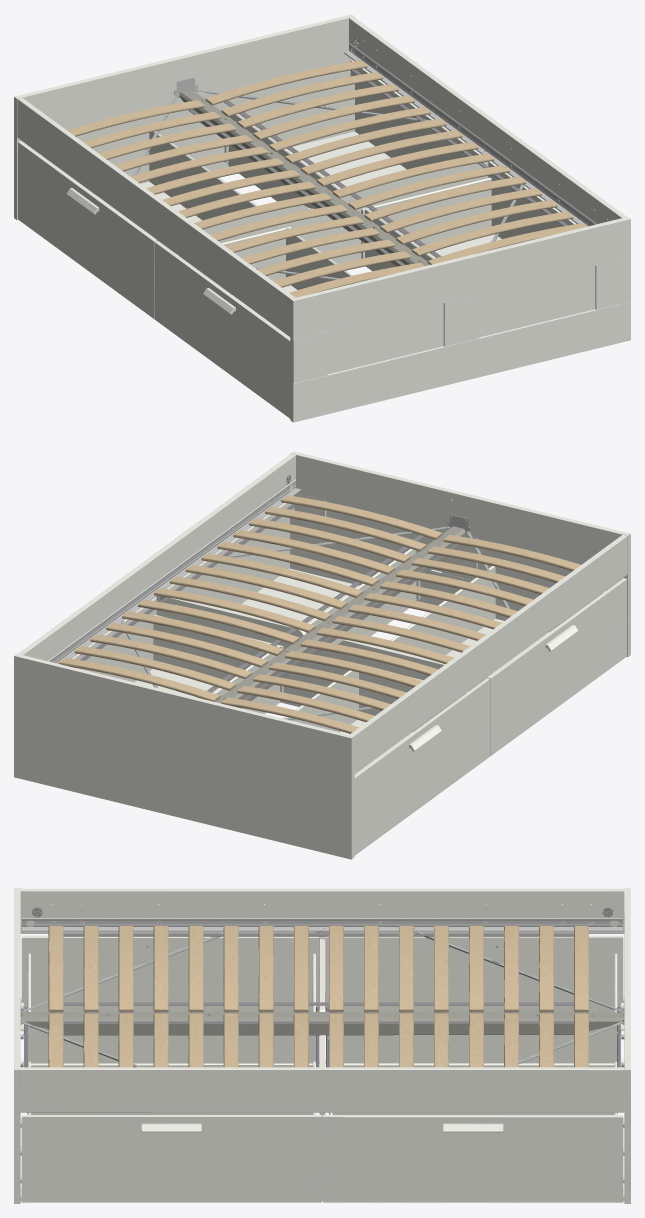
3 views of the same model, one above another, from view 1: azimuth 30°, elevation 25°; view 2: azimuth 150°, elevation 25°; view 3: azimuth 270°, elevation 25° (orthographic). The views are drawn at different scales.
Visible parts, largest first — view 1: world; view 2: world; view 3: world.
Boxes of the visible parts, left/top/right/bottom form: world: left=14, top=14, right=630, bottom=422; world: left=14, top=451, right=630, bottom=859; world: left=14, top=888, right=630, bottom=1203.
Size of the model in its own units: 1.41 by 0.47 by 1.96.
Materials: 1 (1 with a texture image).
